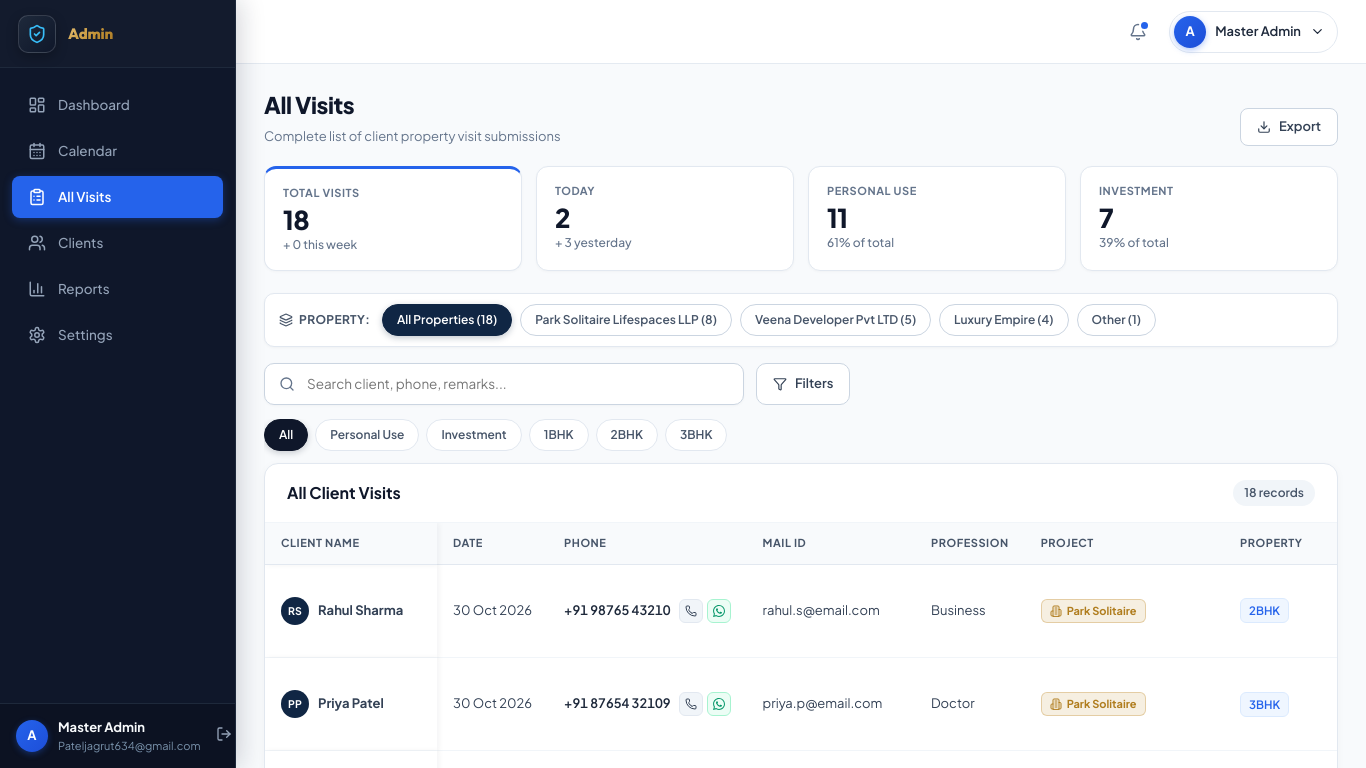
Scenario: Park Solitaire Client Visit App › Status Dropdown & Remarks Paragraph Features › verifies status pills (Visited, FollowUp, Booked, etc.) are removed from all properties and admin All Visits menu and filters by aspiration
Click "Investment" filter pill
Click the button "Investment".
click(474, 435)  # box 426,419 -> 522,451
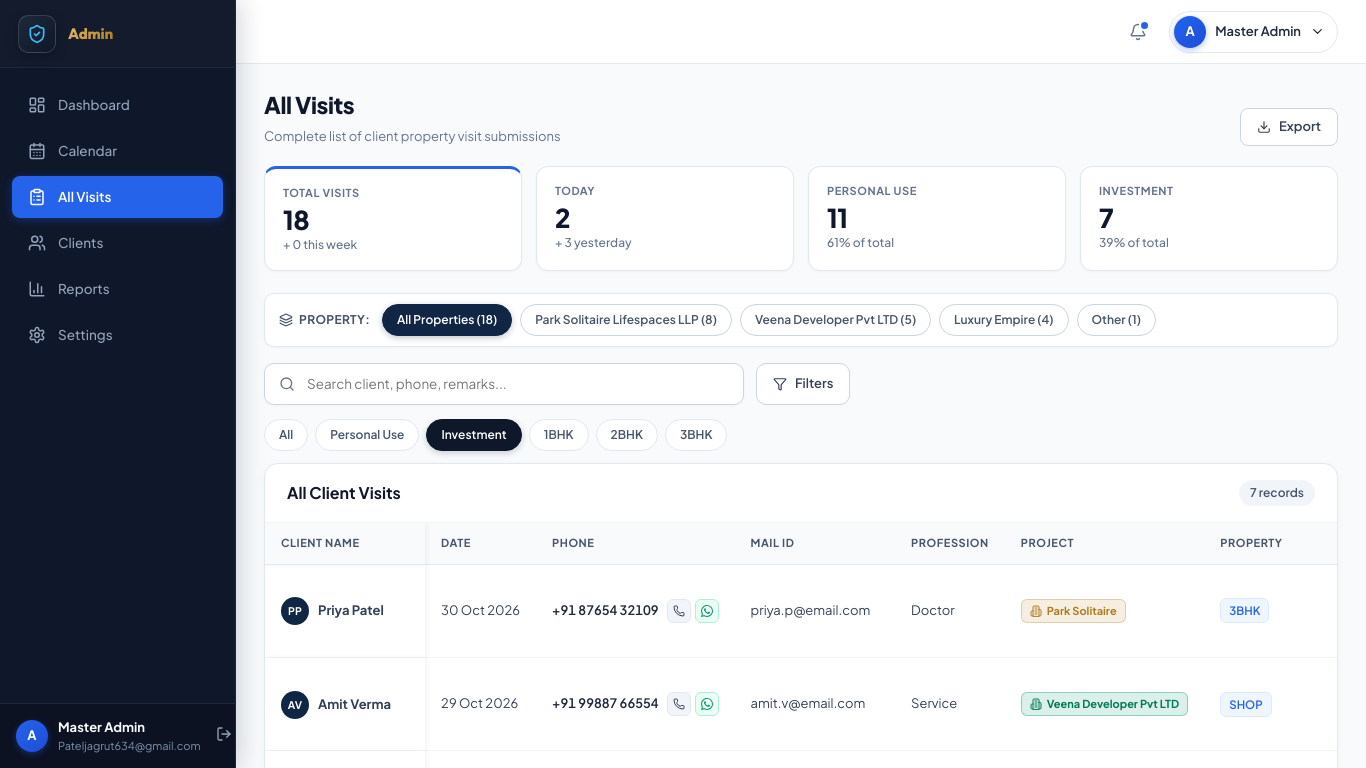
Check: the text "Priya Patel" is shown, box 318,601 -> 384,620
Check: the text "Rahul Sharma" is gone
